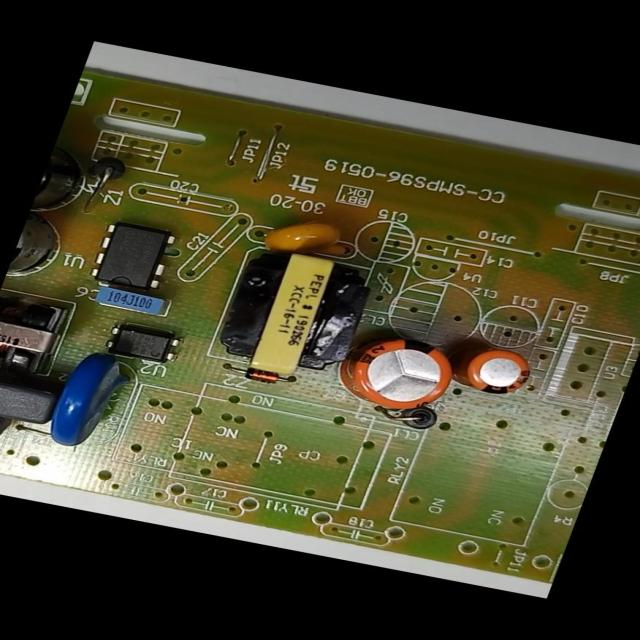Cap1: (326, 325, 467, 424)
Cap2: (442, 336, 543, 406)
Cap3: (0, 205, 81, 298)
Cap4: (27, 138, 111, 228)
MOSFET: (79, 213, 185, 298)
Mov: (29, 340, 151, 462)
Resistor: (0, 404, 28, 471)
Transformer: (201, 234, 381, 388), (0, 290, 82, 384)
